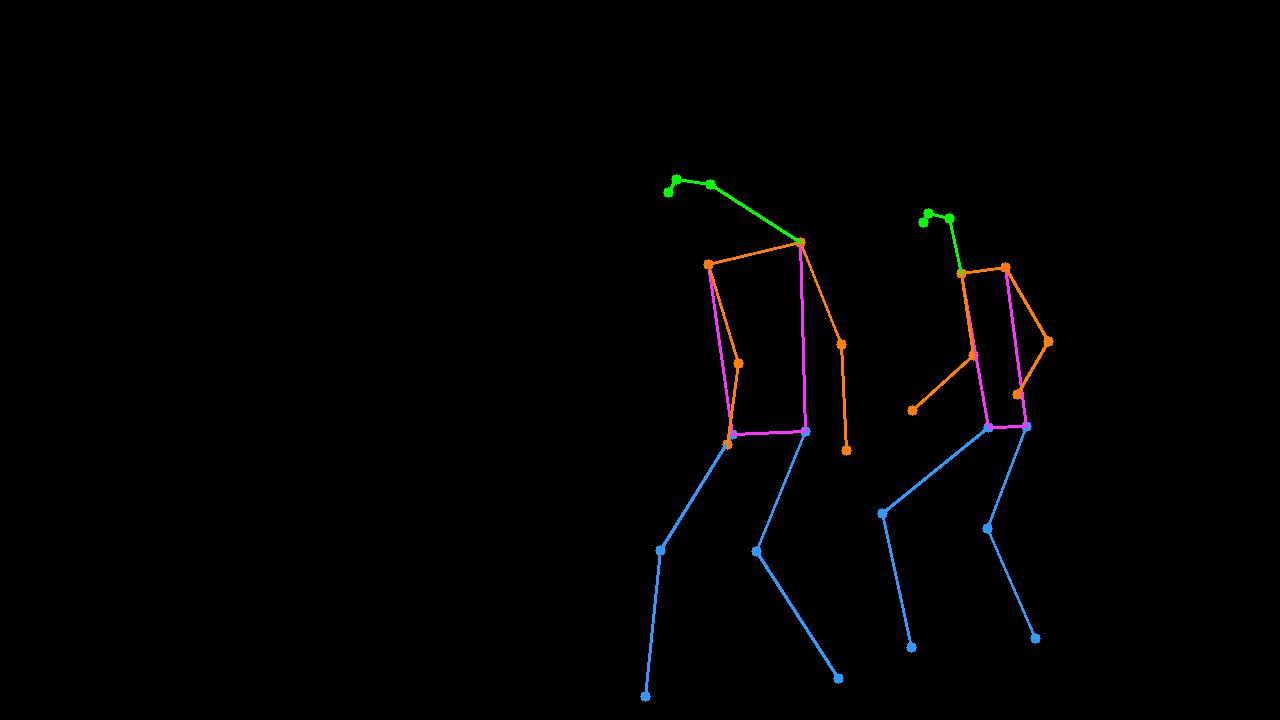normal: (619, 134, 883, 720), (871, 177, 1061, 681)
